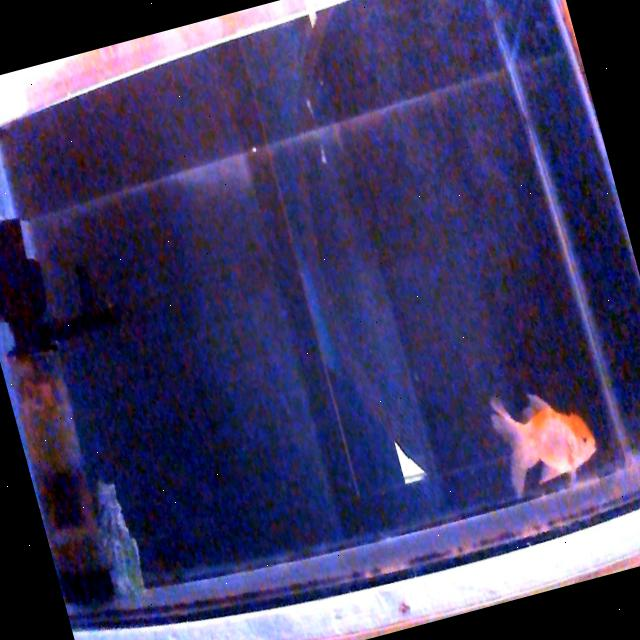fish: (485, 372, 605, 500)
